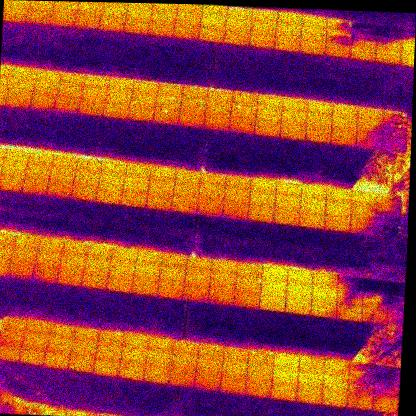Hotspot: (247, 349, 274, 367), (152, 108, 180, 124), (148, 165, 176, 181), (326, 17, 353, 33), (235, 277, 262, 293), (187, 256, 212, 273), (136, 250, 162, 266), (84, 258, 110, 274), (375, 224, 402, 239), (237, 263, 262, 279), (179, 98, 207, 112), (231, 103, 257, 118), (381, 123, 407, 138), (99, 331, 123, 347), (180, 86, 207, 100), (155, 96, 182, 110), (207, 88, 233, 102), (3, 150, 29, 164), (326, 32, 352, 46), (382, 111, 407, 125), (27, 153, 55, 164), (6, 0, 29, 10)
Normal: (220, 375, 247, 394), (324, 358, 350, 377), (22, 176, 50, 193), (32, 265, 58, 283), (121, 348, 147, 366), (169, 369, 195, 387), (207, 289, 234, 306), (259, 295, 286, 312), (298, 356, 325, 373), (143, 367, 170, 384), (296, 387, 323, 404), (107, 275, 132, 293), (177, 111, 205, 127), (45, 180, 73, 196), (95, 187, 123, 203), (172, 341, 200, 357), (185, 271, 211, 288), (132, 278, 158, 295), (183, 286, 209, 303), (233, 292, 259, 309), (285, 298, 311, 315), (74, 325, 100, 342), (147, 337, 173, 354), (22, 335, 48, 352), (297, 372, 323, 389), (195, 374, 221, 391), (246, 380, 272, 397), (322, 390, 348, 407), (254, 121, 281, 137), (250, 177, 277, 193), (171, 196, 198, 212), (273, 208, 300, 224), (197, 344, 224, 360), (145, 353, 172, 369), (118, 365, 145, 381), (38, 238, 63, 255), (111, 247, 136, 264), (123, 333, 148, 350), (223, 346, 248, 363), (71, 341, 96, 358), (96, 345, 121, 362), (274, 353, 299, 370), (331, 106, 359, 121), (202, 114, 230, 129), (120, 190, 148, 205), (156, 283, 184, 298), (352, 192, 378, 208), (71, 184, 97, 200), (325, 202, 351, 218), (161, 253, 187, 269), (60, 255, 86, 271), (287, 270, 313, 286), (134, 264, 160, 280), (210, 274, 236, 290), (81, 273, 107, 289), (261, 281, 287, 297), (286, 283, 312, 299), (311, 286, 337, 302), (25, 320, 51, 336), (272, 383, 298, 399), (0, 331, 23, 349), (131, 80, 158, 95), (53, 98, 80, 113), (305, 126, 332, 141), (97, 174, 124, 189), (325, 187, 352, 202), (249, 192, 276, 207), (248, 206, 275, 221), (299, 213, 326, 228), (312, 272, 339, 287), (171, 354, 198, 369), (221, 362, 248, 377), (246, 366, 273, 381), (82, 74, 109, 89), (175, 170, 200, 186), (212, 259, 237, 275), (160, 268, 185, 284), (58, 270, 83, 286), (50, 322, 75, 338), (69, 356, 94, 372), (273, 368, 298, 384), (323, 375, 348, 391), (72, 171, 100, 185), (222, 202, 250, 216), (3, 316, 26, 333), (130, 93, 156, 108), (306, 101, 332, 116), (100, 161, 126, 176), (124, 164, 150, 179), (275, 194, 301, 209), (300, 199, 326, 214), (146, 193, 172, 208), (62, 242, 88, 257), (8, 263, 34, 278), (46, 338, 72, 353), (196, 360, 222, 375), (93, 361, 119, 376), (325, 44, 351, 59), (0, 175, 24, 191), (36, 252, 60, 268), (256, 94, 283, 108), (282, 98, 309, 112), (6, 93, 33, 107), (78, 101, 105, 115), (103, 104, 130, 118), (199, 173, 226, 187), (300, 186, 327, 200), (205, 101, 230, 116), (302, 15, 327, 30), (11, 249, 36, 264), (262, 266, 287, 281), (249, 34, 274, 49), (107, 78, 133, 92), (251, 9, 277, 23), (8, 80, 34, 94), (56, 85, 82, 99), (80, 87, 106, 101), (105, 90, 131, 104), (29, 95, 55, 109), (256, 107, 282, 121), (306, 113, 332, 127), (229, 118, 255, 132), (198, 186, 226, 199), (223, 189, 251, 202), (197, 199, 223, 213), (25, 12, 51, 26), (325, 218, 351, 232), (275, 25, 301, 39), (87, 245, 113, 259), (224, 32, 250, 46), (43, 353, 69, 367), (110, 263, 134, 278), (20, 350, 44, 365), (231, 91, 258, 104), (127, 107, 154, 120), (280, 125, 307, 138), (330, 133, 357, 146), (224, 20, 251, 33), (147, 23, 174, 36), (299, 41, 326, 54), (157, 83, 182, 97), (33, 82, 58, 96), (331, 119, 356, 133), (201, 16, 226, 30), (14, 236, 39, 250), (301, 29, 326, 43), (76, 4, 102, 17), (51, 157, 77, 170), (0, 163, 26, 176), (25, 164, 51, 177), (147, 180, 173, 193), (173, 184, 199, 197), (49, 14, 75, 27), (250, 22, 276, 35), (12, 67, 38, 80), (35, 70, 61, 83), (48, 168, 76, 180), (224, 177, 252, 189), (174, 25, 198, 39), (0, 346, 21, 362), (52, 1, 77, 14), (277, 13, 302, 26), (151, 11, 176, 24), (74, 16, 99, 29), (99, 18, 124, 31), (199, 29, 224, 42), (275, 38, 300, 51), (376, 50, 401, 63), (58, 73, 83, 86), (280, 112, 307, 124), (123, 178, 150, 190), (358, 109, 382, 122), (175, 14, 201, 26), (3, 9, 27, 22), (123, 21, 149, 33), (350, 47, 376, 59), (200, 4, 226, 16), (226, 7, 252, 19), (76, 159, 101, 171), (276, 183, 301, 195), (125, 10, 151, 21), (101, 8, 126, 19), (28, 1, 53, 12), (178, 4, 202, 14)
Shadow: (336, 304, 363, 322), (372, 380, 398, 398), (347, 392, 373, 410), (351, 204, 376, 222), (376, 209, 402, 225), (350, 219, 376, 235), (361, 292, 387, 308), (348, 362, 374, 378), (310, 302, 337, 317), (373, 366, 400, 381), (347, 378, 373, 393), (372, 397, 398, 412), (363, 279, 388, 294), (356, 121, 382, 135), (356, 135, 382, 149), (381, 138, 407, 152), (361, 308, 387, 322), (351, 21, 378, 34), (337, 277, 364, 290), (377, 195, 402, 209), (377, 24, 402, 38), (376, 37, 401, 51), (336, 291, 362, 304), (351, 35, 376, 48)
